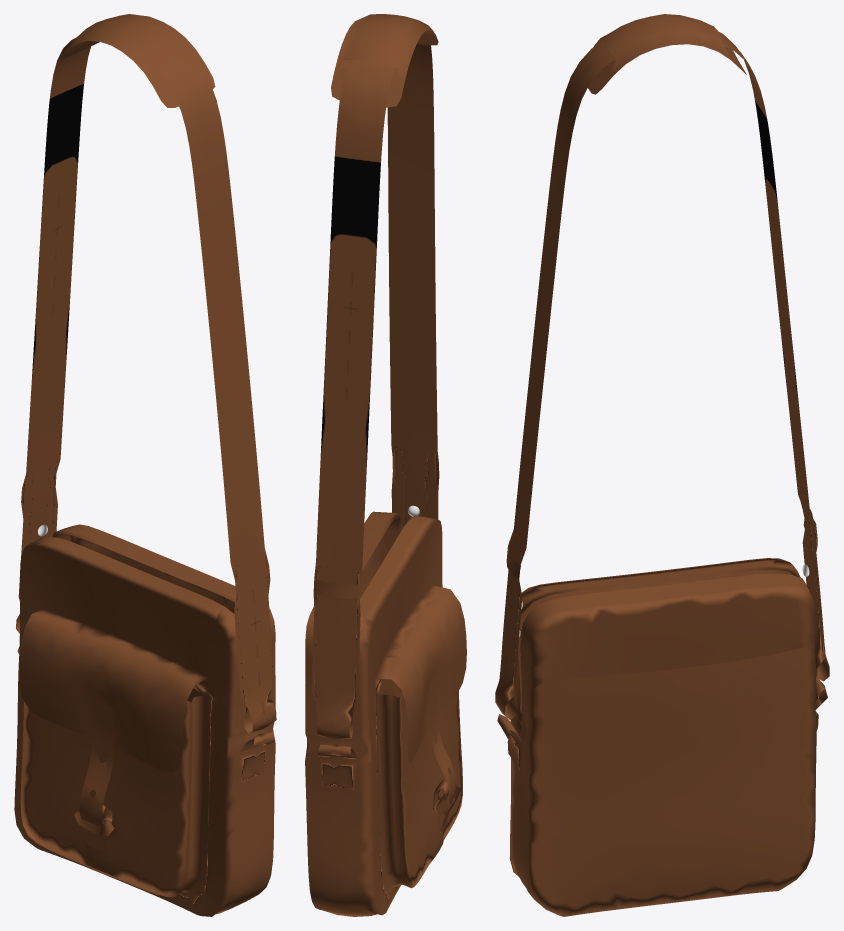
File: manBag6.glb
3 views of the same model, side by side, from view 1: azimuth 30°, elevation 25°; view 2: azimuth 150°, elevation 25°; view 3: azimuth 270°, elevation 25° (orthographic). The views are drawn at different scales.
Visible parts, largest first — view 1: manBagg; view 2: manBagg; view 3: manBagg.
Part boxes in pixels (left/top/right/bottom): manBagg: left=14, top=14, right=276, bottom=916; manBagg: left=305, top=14, right=466, bottom=916; manBagg: left=495, top=14, right=829, bottom=916.
Size of the model in its own units: 1.36 by 7.77 by 2.71.
Materials: 1 (1 with a texture image).
